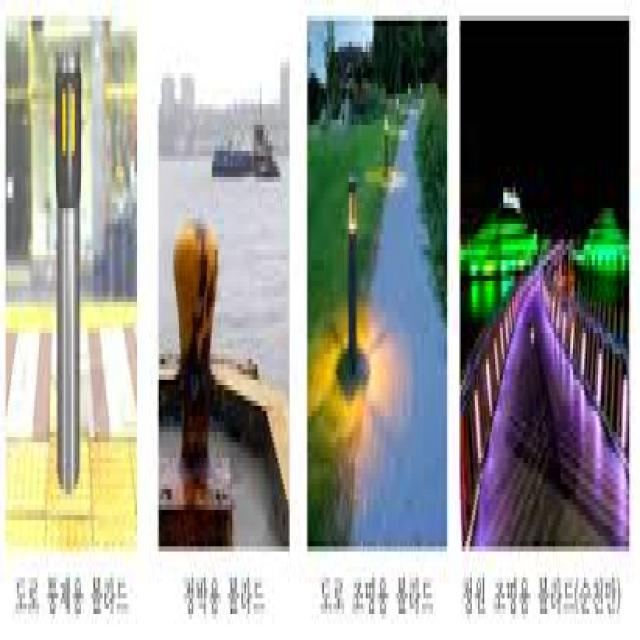bollard: (167, 202, 221, 483), (53, 39, 83, 496), (338, 165, 367, 402), (381, 95, 392, 182)
